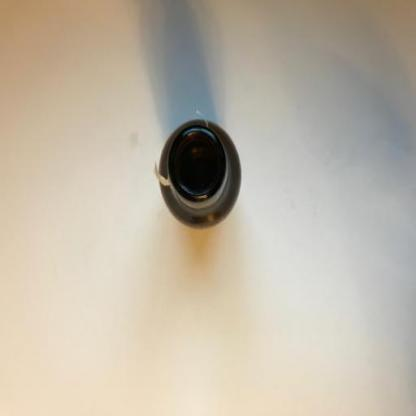trash: (157, 120, 243, 232)
